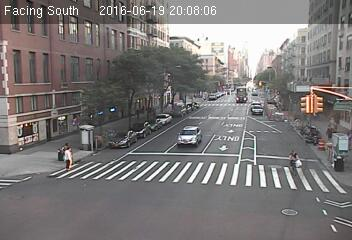neg: (166, 126, 200, 171), (218, 129, 246, 166), (311, 151, 338, 188), (102, 178, 128, 213), (41, 61, 66, 93), (260, 156, 284, 188), (256, 37, 280, 69), (286, 148, 309, 179), (117, 121, 140, 151), (225, 57, 247, 86), (22, 129, 44, 157), (165, 194, 183, 217), (188, 61, 205, 84), (79, 93, 96, 116), (124, 51, 141, 73), (288, 97, 303, 117), (244, 199, 258, 217)
pos: (60, 146, 78, 169)
